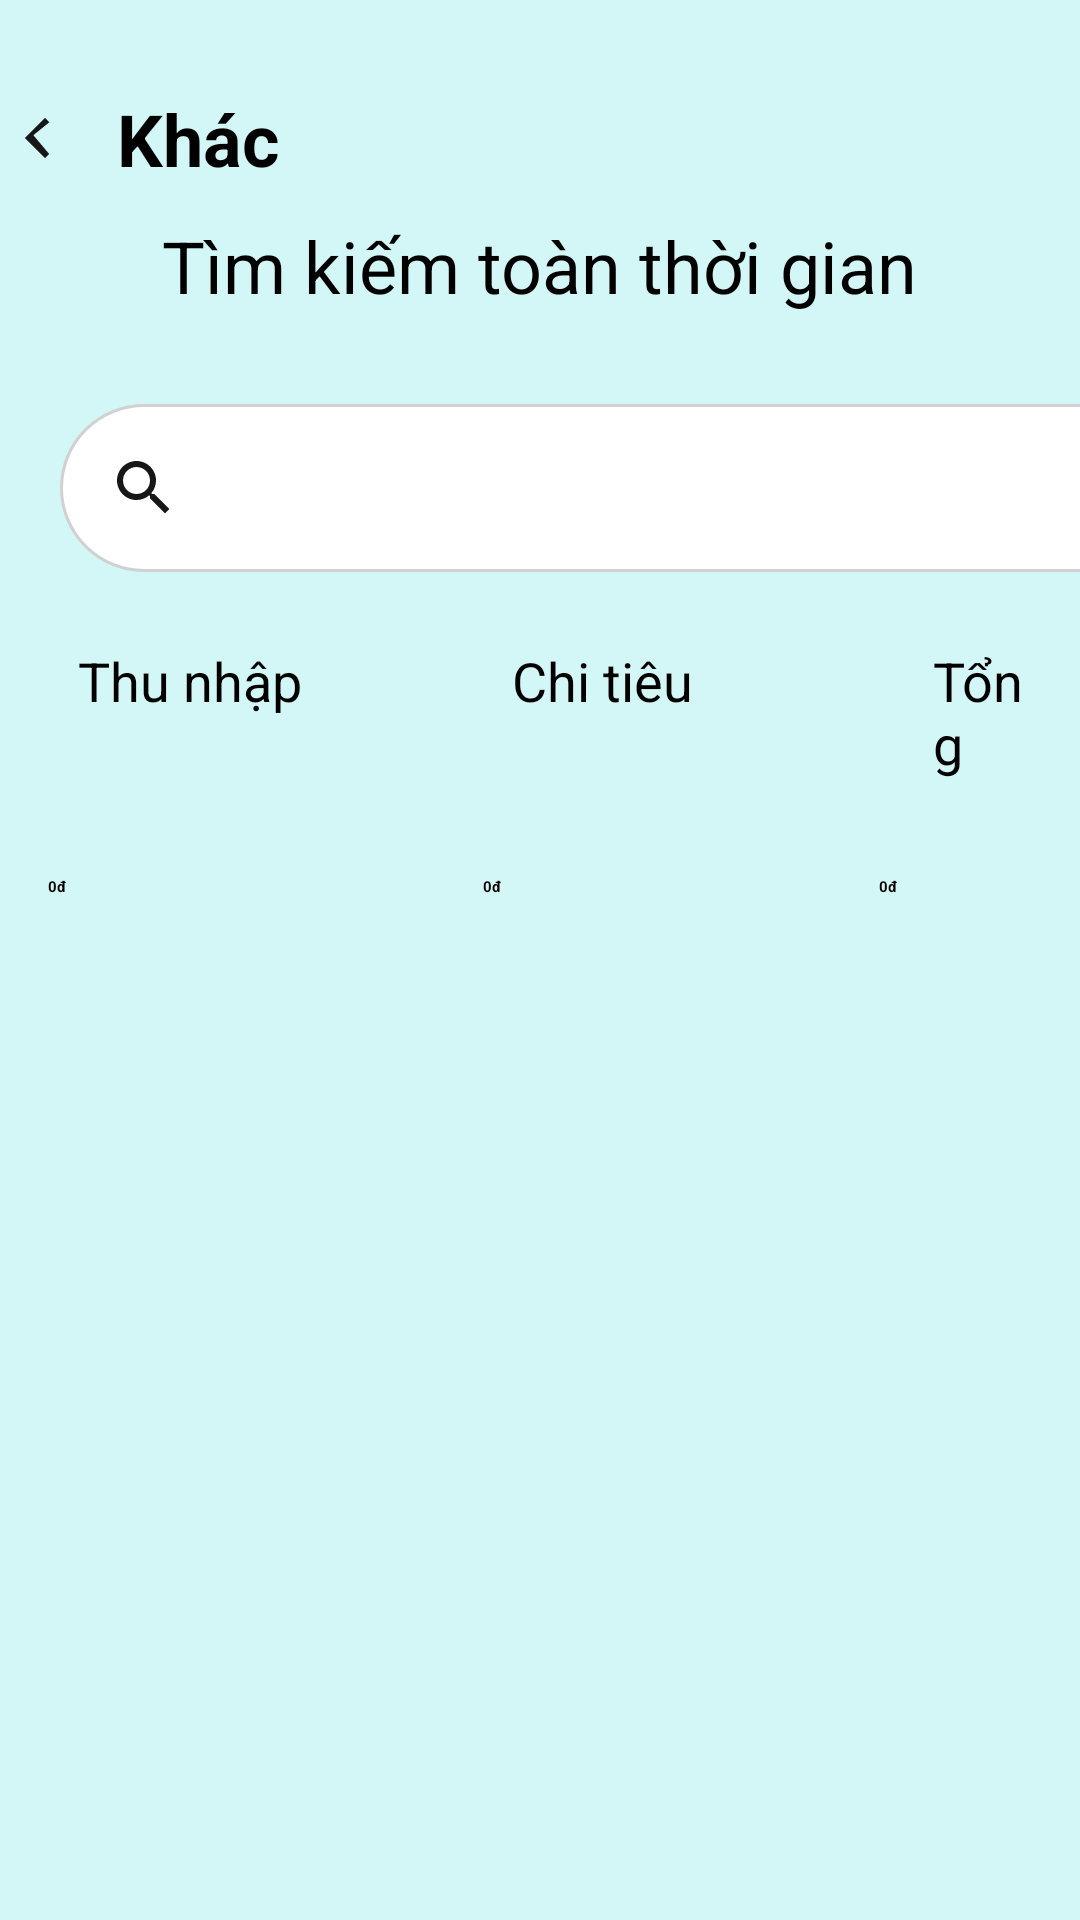

Named icons in this screenshot (1080px x 1920px) and their bounding boxes, (x1, y1, x2, y2):
left: (25, 118, 50, 158)
search: (117, 461, 169, 513)
